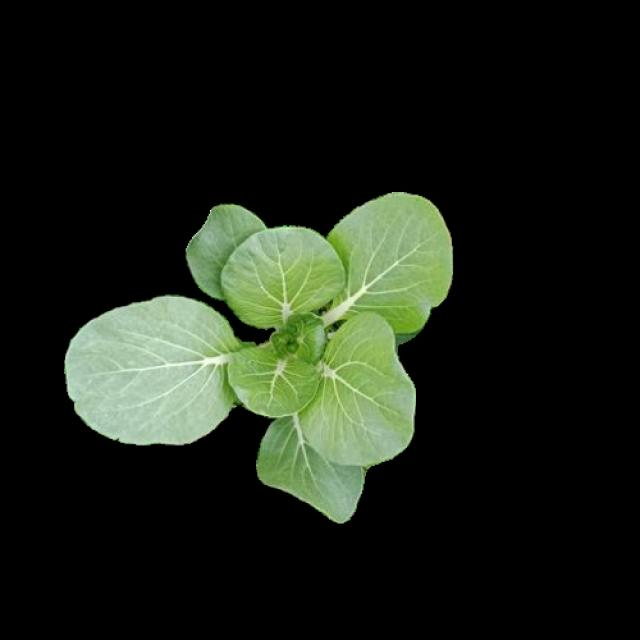healthy: (64, 184, 447, 521)
not-mature: (67, 187, 449, 523)
